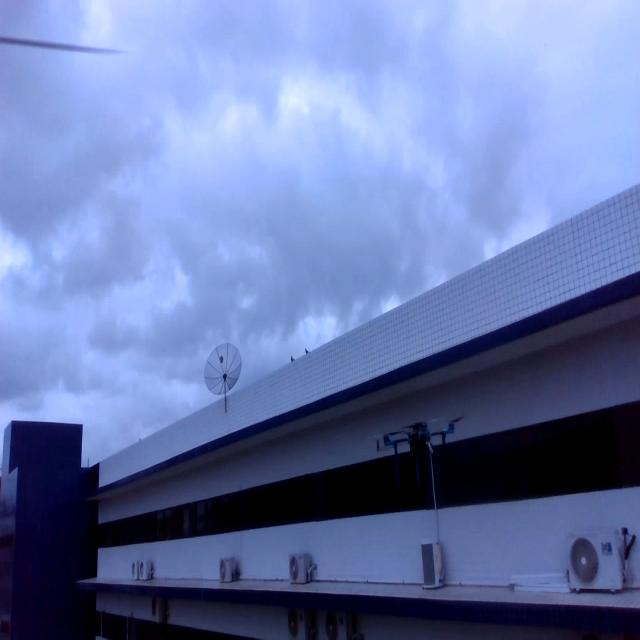-uav-: (364, 396, 474, 520)
